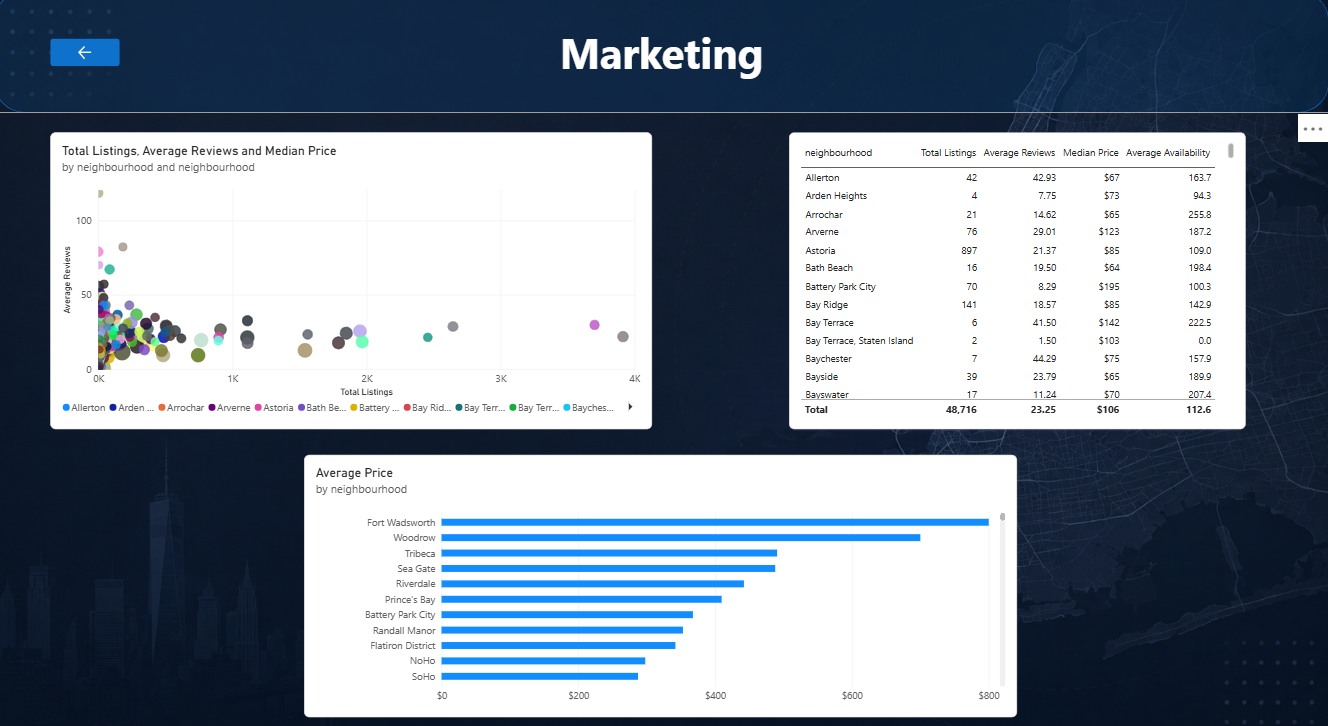

What the dashboard file says about the page in this screenshot:
{"tool":"powerbi","page":{"name":"Marketing","canvas":[1920,1080],"ordinal":4},"visuals":[{"type":"image","box":[0,0,1920,1080],"z":0},{"type":"shape","box":[0,0,1920,175],"z":1000},{"type":"actionButton","box":[81.3,69.1,100,40],"z":2000},{"type":"scatterChart","fields":{"Category":["NYC_Airbnb_Cleaned.neighbourhood"],"Series":["NYC_Airbnb_Cleaned.neighbourhood"],"Size":["NYC_Airbnb_Cleaned.Median Price"],"X":["NYC_Airbnb_Cleaned.Total Listings"],"Y":["NYC_Airbnb_Cleaned.Average Reviews"]},"box":[81.4,202.9,865.7,427.1],"z":3000},{"type":"tableEx","fields":{"Values":["NYC_Airbnb_Cleaned.neighbourhood","NYC_Airbnb_Cleaned.Total Listings","NYC_Airbnb_Cleaned.Average Reviews","NYC_Airbnb_Cleaned.Median Price","NYC_Airbnb_Cleaned.Average Availability"]},"box":[1142.9,202.9,657.1,427.1],"z":4000},{"type":"barChart","fields":{"Category":["NYC_Airbnb_Cleaned.neighbourhood"],"Y":["NYC_Airbnb_Cleaned.Average Price"]},"box":[446.4,667.6,1026,377.8],"z":5000}]}

Visuals, with their boxes in screenshot pixels (x1, y1, x2, y2), scaled from the page's 1920x1080 canvas onto the 1328x726 screenshot:
image: Rect(0, 0, 1327, 725)
shape: Rect(0, 0, 1327, 118)
actionButton: Rect(56, 46, 125, 73)
scatterChart - NYC_Airbnb_Cleaned.neighbourhood x NYC_Airbnb_Cleaned.neighbourhood: Rect(56, 136, 655, 424)
tableEx - NYC_Airbnb_Cleaned.neighbourhood x NYC_Airbnb_Cleaned.Total Listings: Rect(791, 136, 1245, 424)
barChart - NYC_Airbnb_Cleaned.neighbourhood x NYC_Airbnb_Cleaned.Average Price: Rect(309, 449, 1018, 703)
